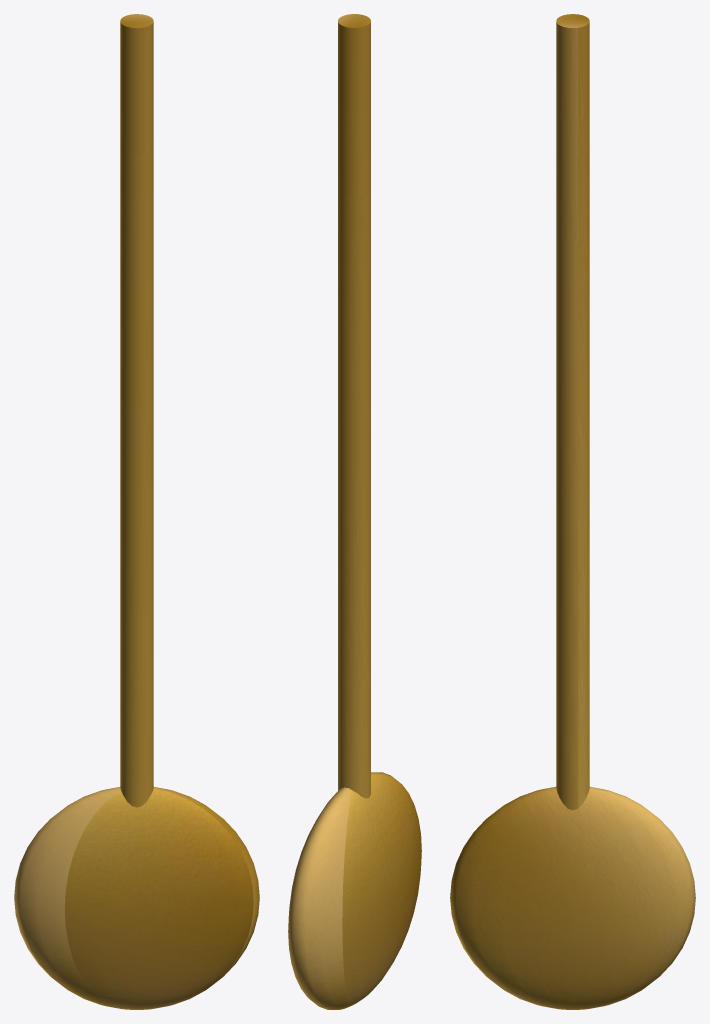
The model's file is Pendule.fbx.
3 renders of one model, left to right at view 1: azimuth 90°, elevation 25°; view 2: azimuth 150°, elevation 25°; view 3: azimuth 270°, elevation 25°, orthographic.
Parts seen in each view (by area): view 1: Pendule; view 2: Pendule; view 3: Pendule.
Boxes of the visible parts, x1,y1,x2,y2 form: Pendule: [14, 14, 259, 1009]; Pendule: [288, 14, 421, 1009]; Pendule: [450, 14, 695, 1009].
Bounding box in the file's own units: 0.2254 × 3.67 × 0.8273.
1 material, 1 textured.
